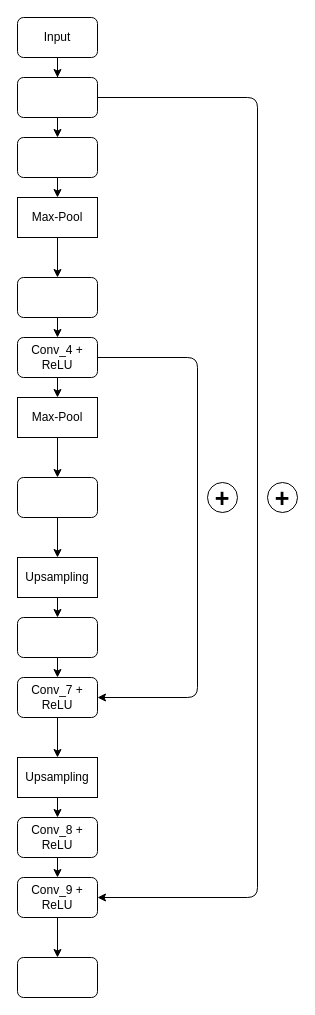
The diagram is 315 pixels wide and 1015 high, and some of its shapes have lost their labels. The box of each missing label's shape, as (x1, y1, x2, y2) in pixels:
Conv_1 + ReLU: (16, 76, 98, 118)
Conv_10 + ReLU: (16, 956, 98, 998)
Conv_2 + ReLU: (16, 136, 98, 178)
Conv_3 + ReLU: (16, 276, 98, 318)
Conv_5 + ReLU: (16, 476, 98, 518)
Conv_6 + ReLU: (16, 616, 98, 658)
